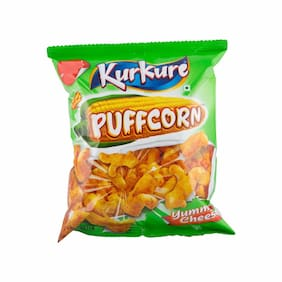kurkure: (90, 57, 194, 88)
plastic: (35, 25, 245, 252)
wrapper: (52, 48, 225, 230)
